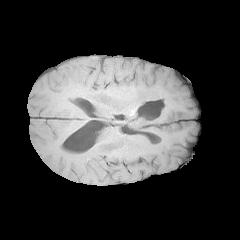glioma: (124, 84, 169, 132)
